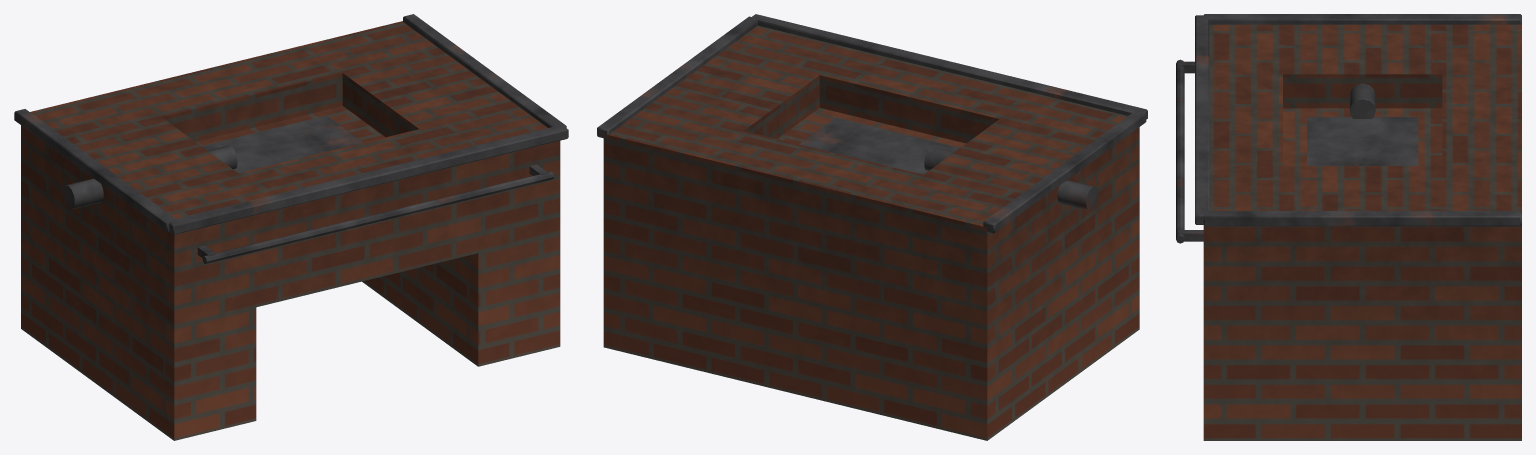
The model's file is SM_Forge_Hearth.glb.
3 views of the same model, side by side, from view 1: azimuth 30°, elevation 25°; view 2: azimuth 150°, elevation 25°; view 3: azimuth 270°, elevation 25° (orthographic). The views are drawn at different scales.
Parts seen in each view (by area): view 1: SM_Forge_Hearth; view 2: SM_Forge_Hearth; view 3: SM_Forge_Hearth.
Boxes of the visible parts, x1,y1,x2,y2 form: SM_Forge_Hearth: [14, 14, 568, 440]; SM_Forge_Hearth: [597, 14, 1147, 440]; SM_Forge_Hearth: [1176, 14, 1521, 440].
Size of the model in its own units: 1.75 by 0.87 by 1.19.
1 material, 1 textured.
